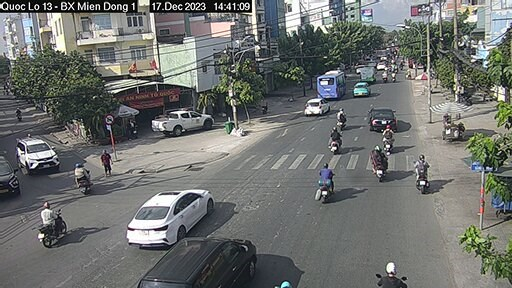bus: (318, 69, 350, 100)
car: (159, 237, 253, 288), (128, 184, 210, 242), (151, 108, 215, 137), (17, 134, 57, 173), (369, 106, 396, 134), (303, 94, 329, 117), (353, 82, 374, 102)
motorbike: (37, 206, 64, 243), (412, 159, 437, 198), (313, 167, 339, 201), (73, 163, 95, 197), (370, 150, 394, 173), (325, 125, 344, 152), (382, 127, 397, 147)
truck: (359, 66, 379, 83)
